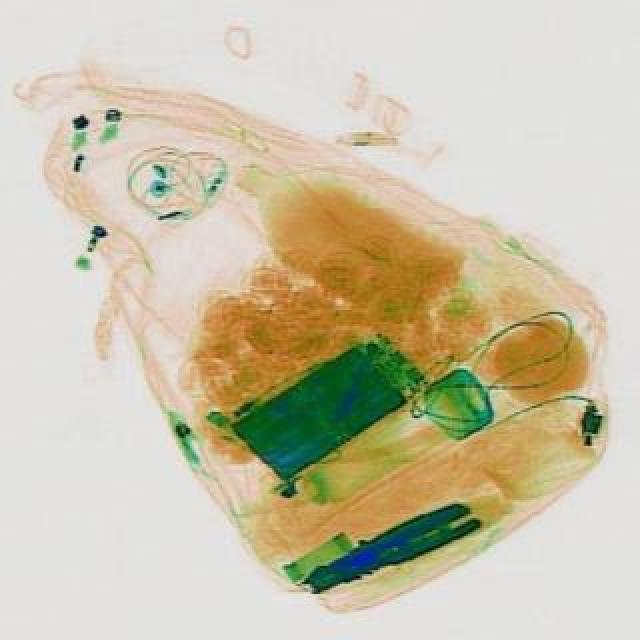wrench: (296, 494, 480, 600)
